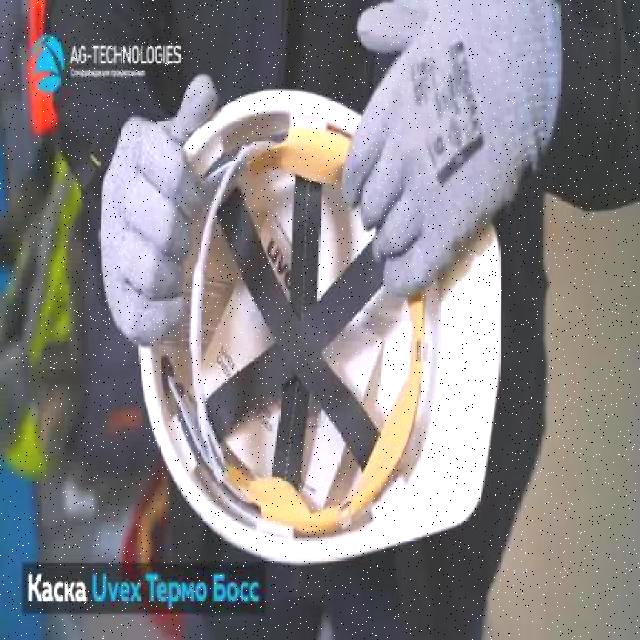Gloves: (340, 0, 566, 298), (98, 70, 220, 355)
Helmet: (136, 86, 504, 571)
